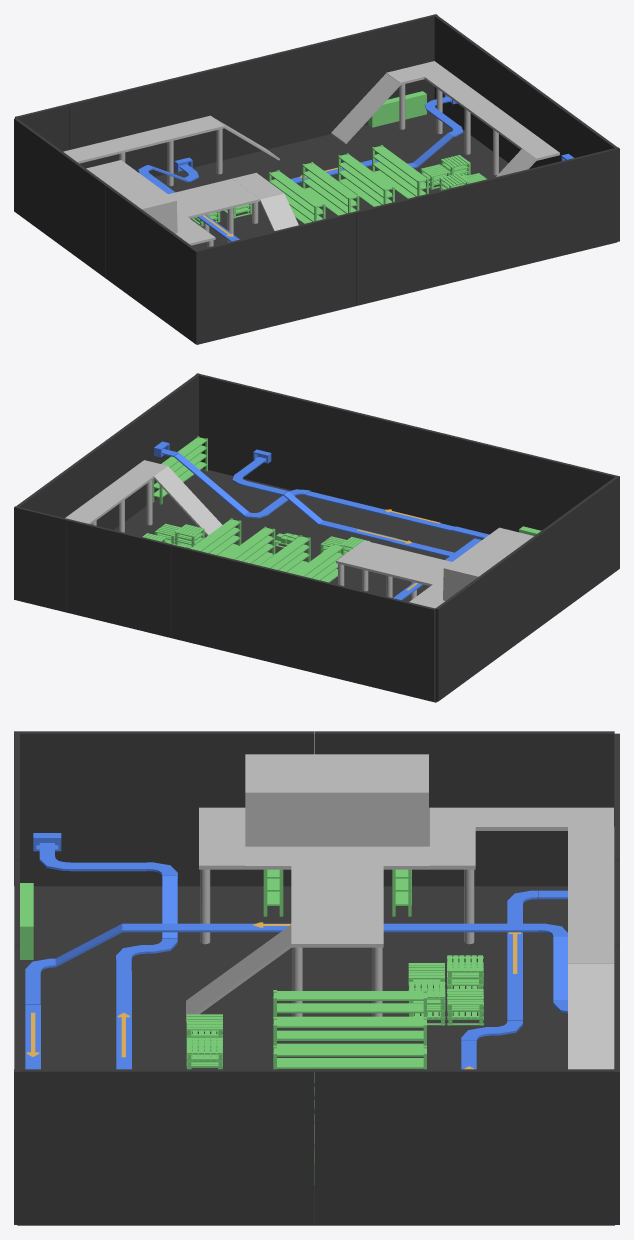
Rendered from Level_Layout_Export.fbx.
3 renders of one model, top to bottom at view 1: azimuth 30°, elevation 25°; view 2: azimuth 150°, elevation 25°; view 3: azimuth 270°, elevation 25°, orthographic. The views are drawn at different scales.
Visible parts, largest first — view 1: Room_Outline, Walkways, Control_Room, Conveyor_Belts, Big_Shelf03, Big_Shelf02, Big_Shelf04, Big_Shelf01, Pallet05, Lockers01; view 2: Room_Outline, Walkways, Conveyor_Belts, Control_Room, Big_Shelf05, Big_Shelf03, Big_Shelf04, Big_Shelf02, Big_Shelf01, Pallet05; view 3: Room_Outline, Walkways, Control_Room, Conveyor_Belts, Big_Shelf02, Big_Shelf01, Big_Shelf03, Pallet02, Pallet03, Pallet01, Lockers03, Small_Shelf01 (+1 smaller).
Part boxes in pixels (bbox=[...]): Room_Outline: bbox=[14, 14, 619, 344]; Walkways: bbox=[63, 61, 559, 247]; Control_Room: bbox=[86, 160, 177, 233]; Conveyor_Belts: bbox=[138, 94, 573, 241]; Big_Shelf03: bbox=[338, 153, 394, 206]; Big_Shelf02: bbox=[302, 162, 359, 215]; Big_Shelf04: bbox=[372, 145, 428, 198]; Big_Shelf01: bbox=[268, 170, 325, 223]; Pallet05: bbox=[420, 155, 486, 190]; Lockers01: bbox=[368, 91, 426, 127]; Room_Outline: bbox=[14, 373, 619, 702]; Walkways: bbox=[65, 460, 451, 608]; Conveyor_Belts: bbox=[154, 441, 489, 600]; Control_Room: bbox=[443, 527, 533, 600]; Big_Shelf05: bbox=[152, 436, 207, 504]; Big_Shelf03: bbox=[224, 526, 275, 565]; Big_Shelf04: bbox=[190, 518, 241, 556]; Big_Shelf02: bbox=[260, 535, 310, 573]; Big_Shelf01: bbox=[293, 543, 344, 582]; Pallet05: bbox=[142, 523, 204, 548]; Room_Outline: bbox=[14, 731, 619, 1225]; Walkways: bbox=[186, 807, 614, 1147]; Control_Room: bbox=[245, 754, 428, 846]; Conveyor_Belts: bbox=[25, 833, 567, 1069]; Big_Shelf02: bbox=[273, 1017, 426, 1059]; Big_Shelf01: bbox=[273, 990, 426, 1040]; Big_Shelf03: bbox=[273, 1045, 426, 1073]; Pallet02: bbox=[409, 981, 483, 1025]; Pallet03: bbox=[186, 1014, 222, 1069]; Pallet01: bbox=[408, 955, 483, 998]; Lockers03: bbox=[20, 883, 33, 959]; Small_Shelf01: bbox=[263, 869, 283, 916].
Bounding box in the file's own units: 5232 × 1110 × 3931.
